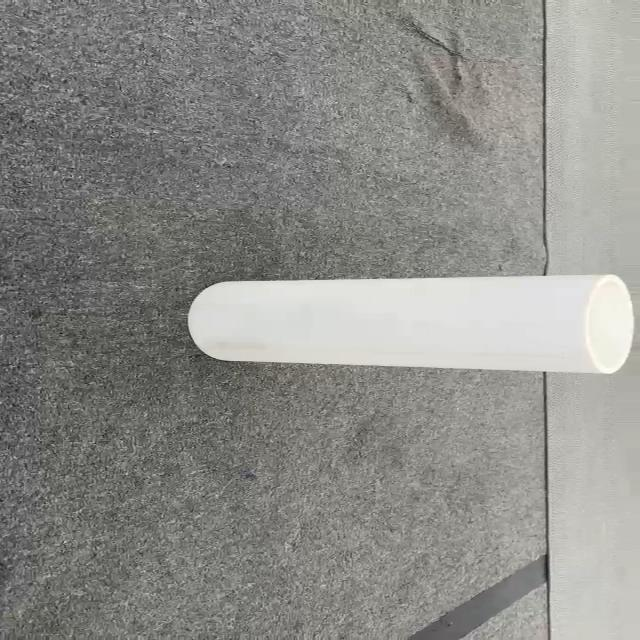coral: (186, 272, 634, 374)
